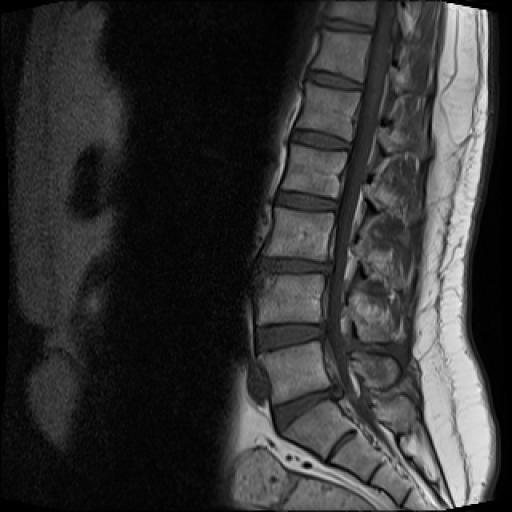L1: (296, 81, 361, 142)
L2: (281, 144, 347, 198)
L3: (268, 207, 334, 260)
L4: (257, 276, 324, 324)
L5: (257, 342, 330, 408)
S1: (283, 401, 353, 460)
